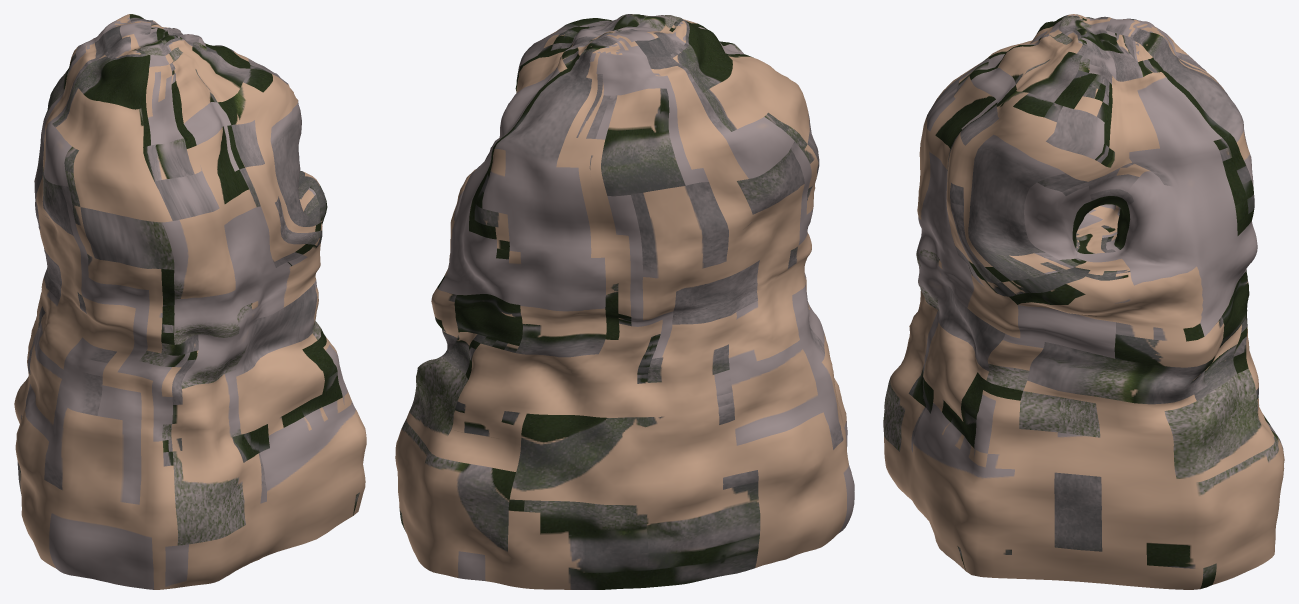
File: SM_Island1_L.fbx
The picture shows the model from 3 angles, left to right: view 1: azimuth 30°, elevation 25°; view 2: azimuth 150°, elevation 25°; view 3: azimuth 270°, elevation 25°; orthographic projection. The views are drawn at different scales.
Parts seen in each view (by area): view 1: Circle001; view 2: Circle001; view 3: Circle001.
Boxes of the visible parts, x1,y1,x2,y2 form: Circle001: (14,14,366,589); Circle001: (395,14,854,589); Circle001: (883,14,1284,589).
Size of the model in its own units: 2500 by 3530 by 2659.
